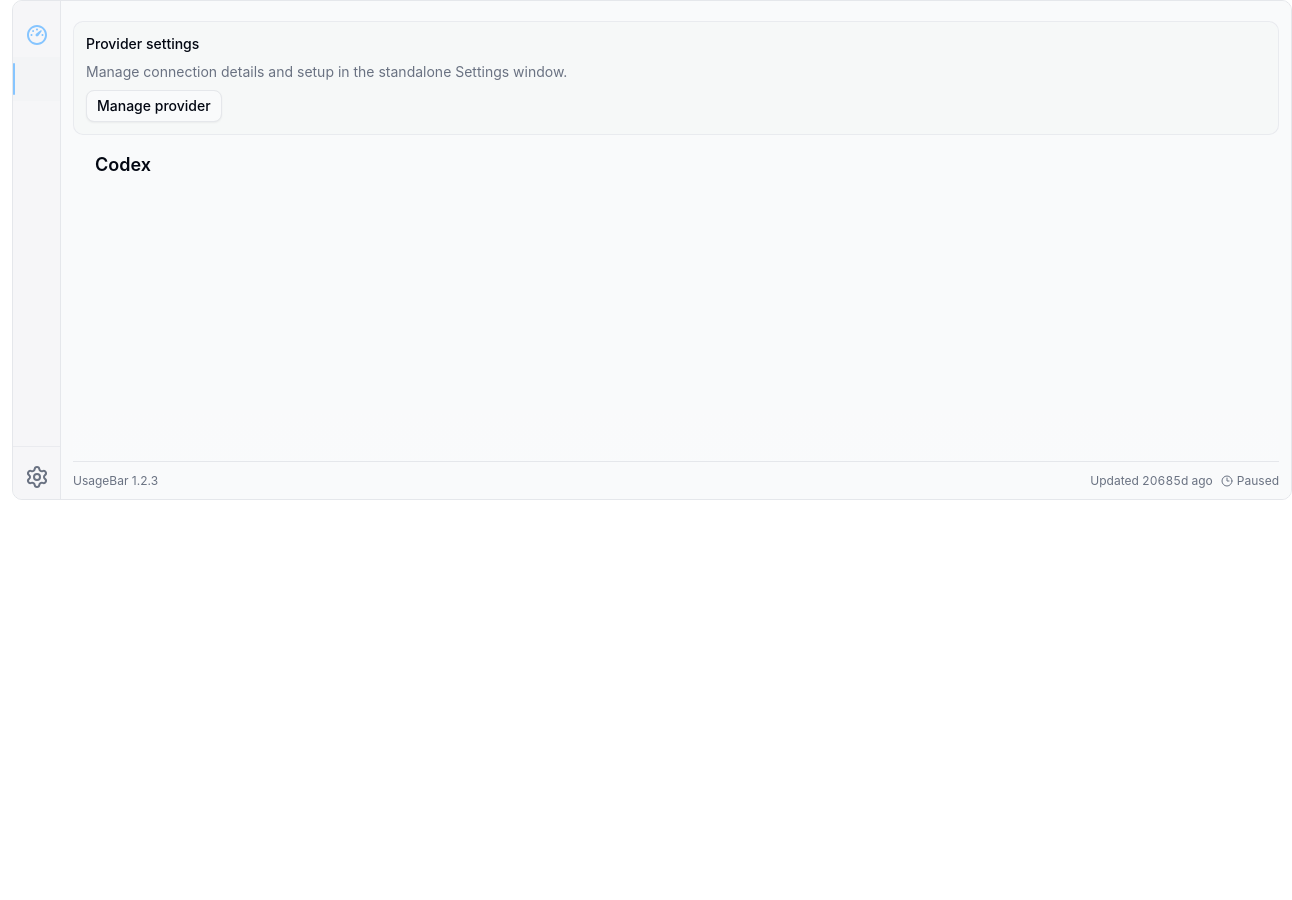
AppShell › closes the context menu with Escape or an outside pointer event
Right-click the element with test id "app-panel" at (652, 250), box [12,0,1291,500]
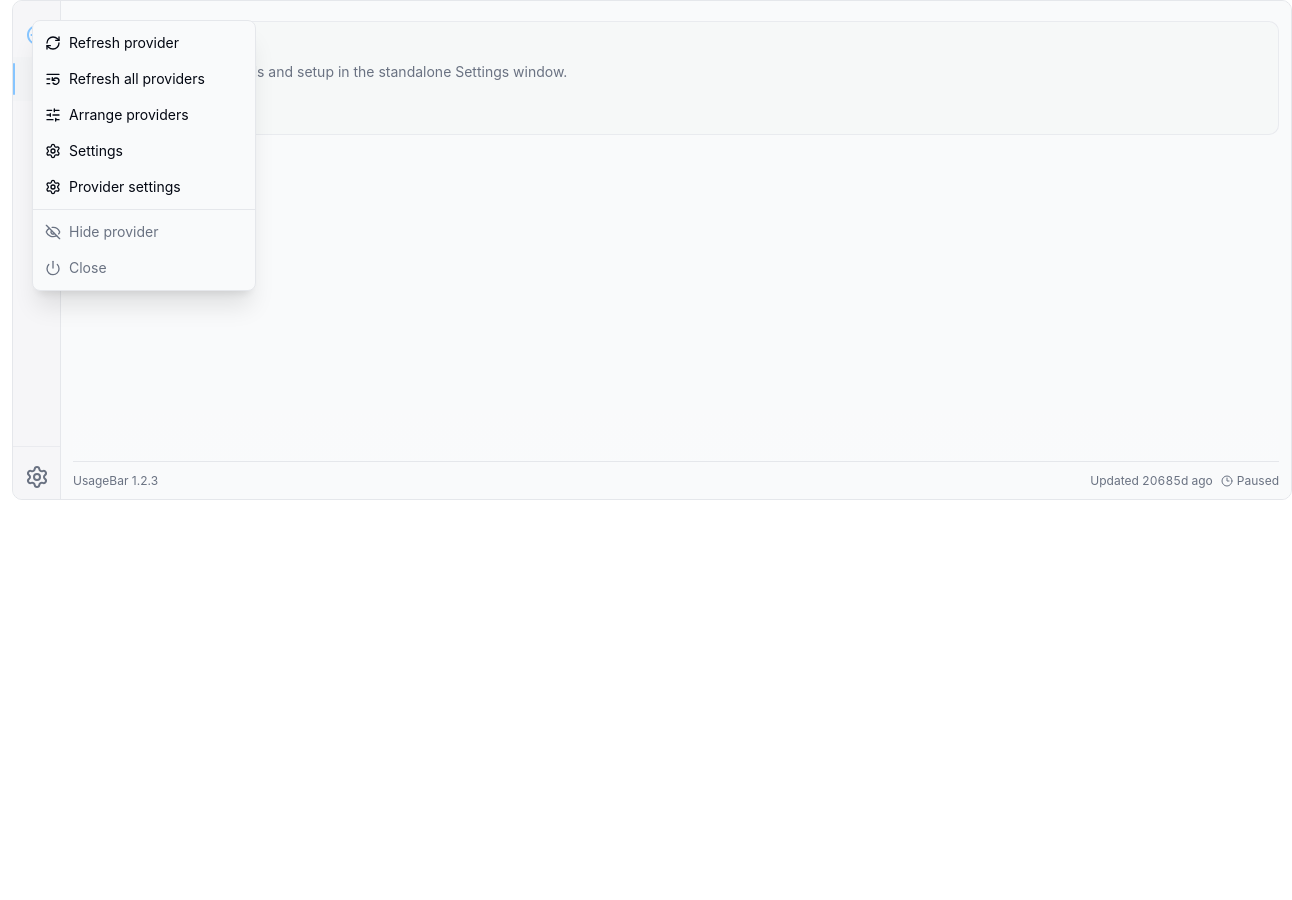
Press Escape
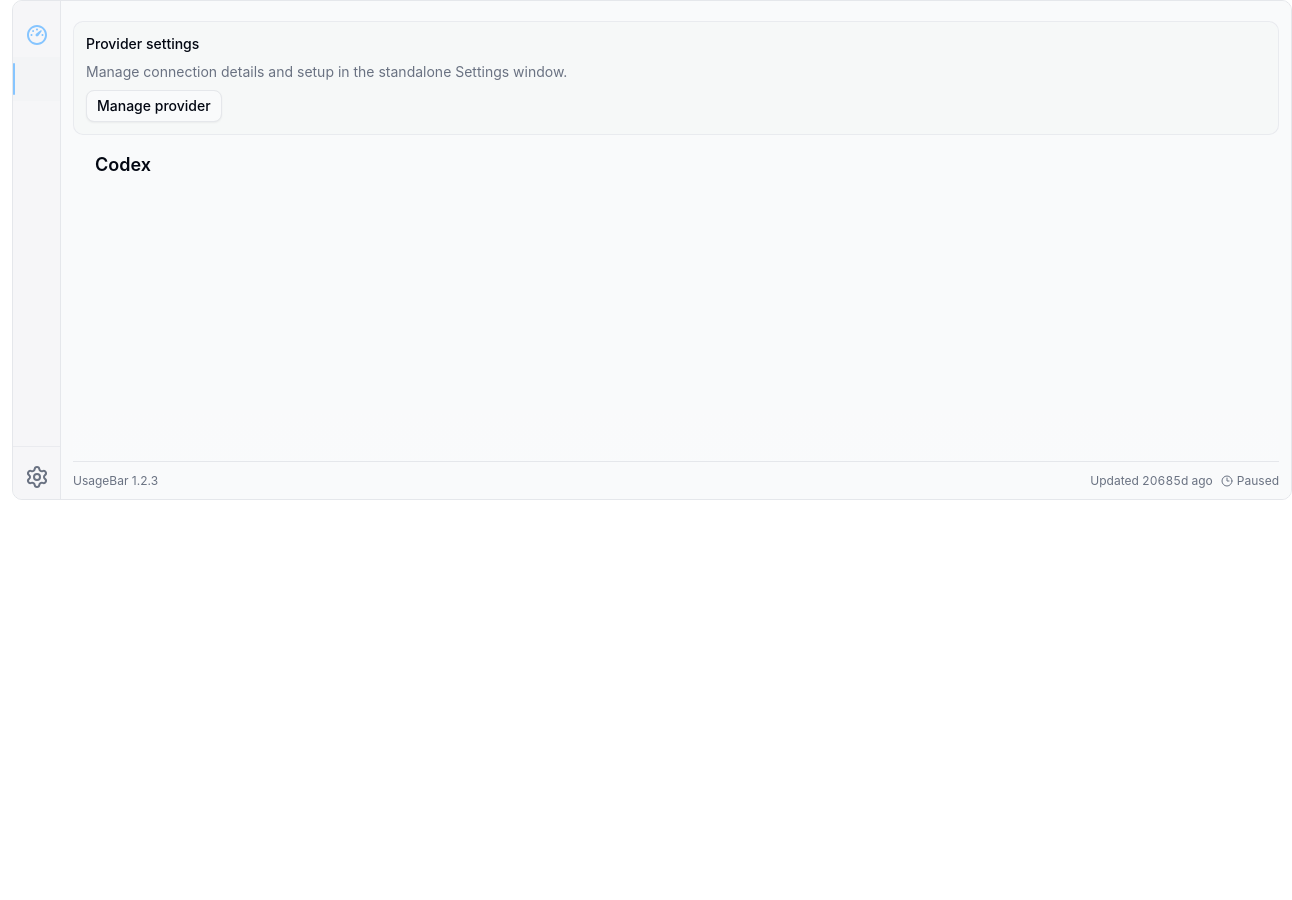
Now the menu is gone
Right-click the element with test id "app-panel" at (652, 250), box [12,0,1291,500]
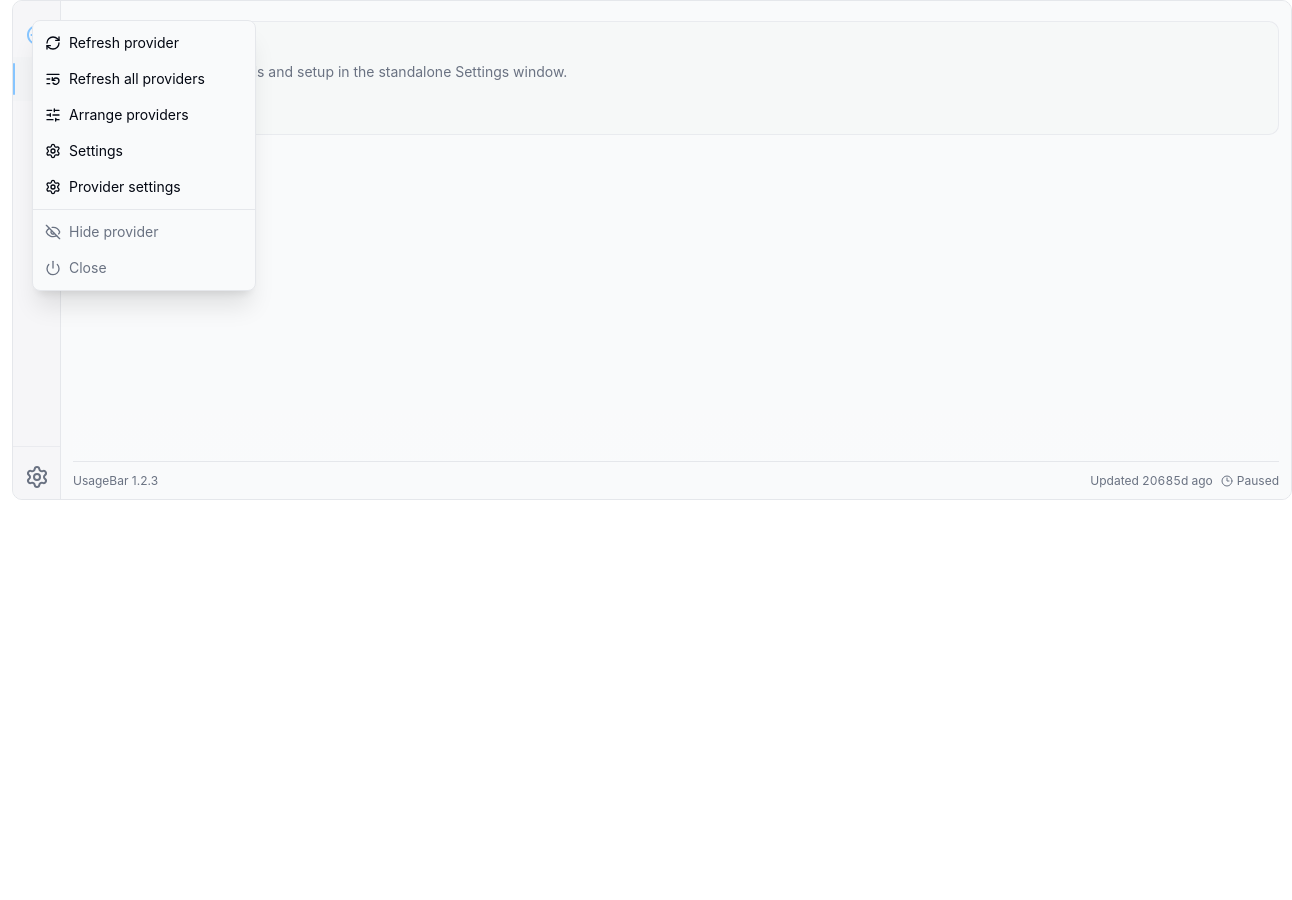
Press the mouse on the element that starts with "Provider settings" at (652, 450), box [12,0,1291,899]
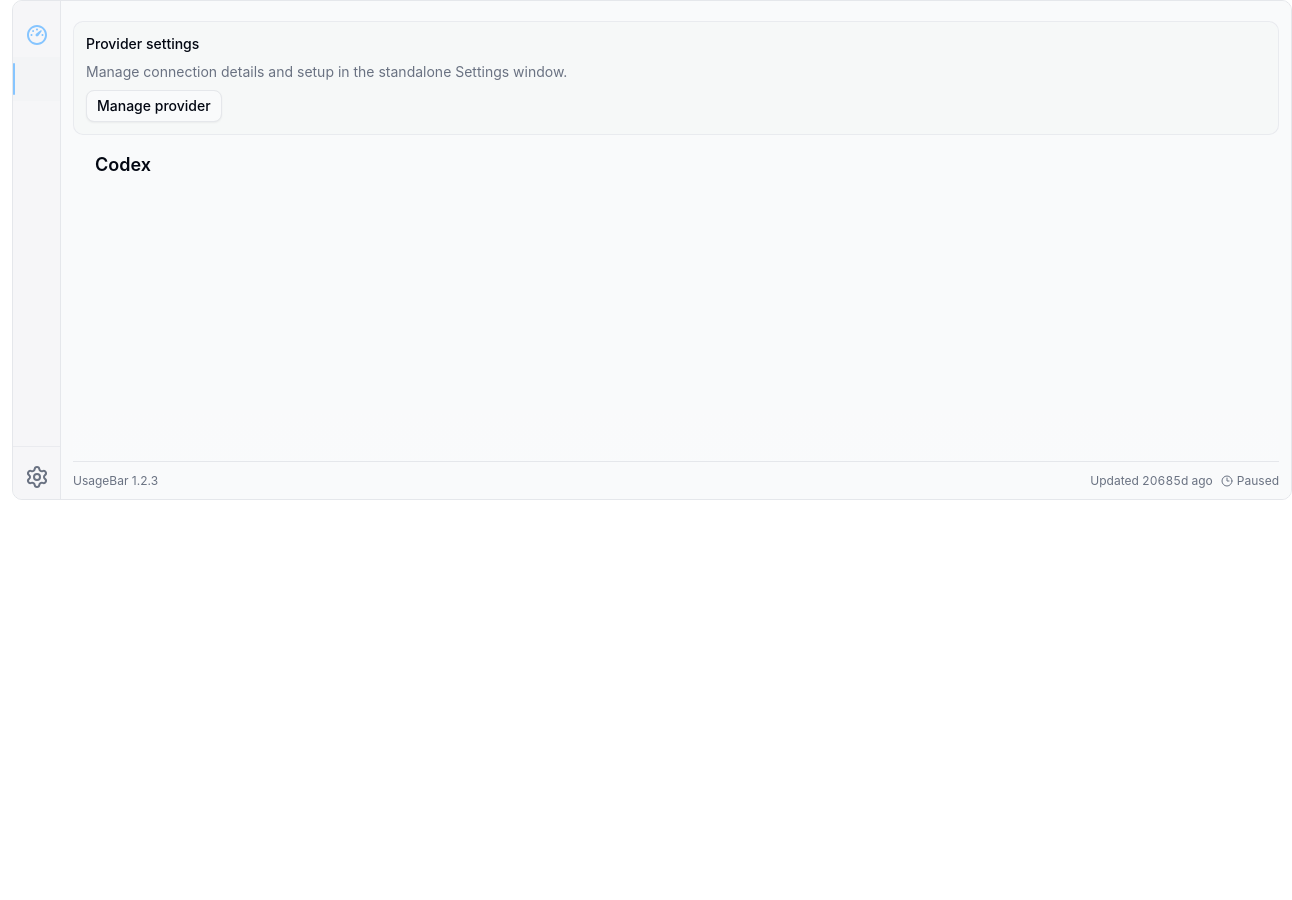
Now the menu is gone
